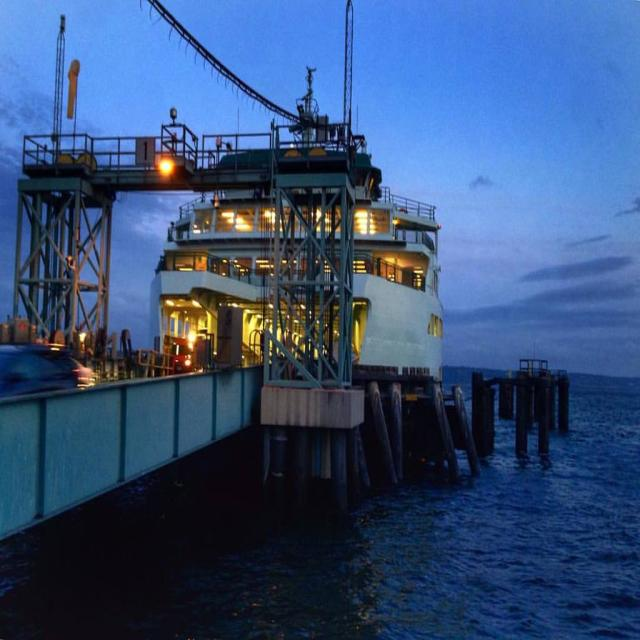Boat: (132, 105, 465, 465)
